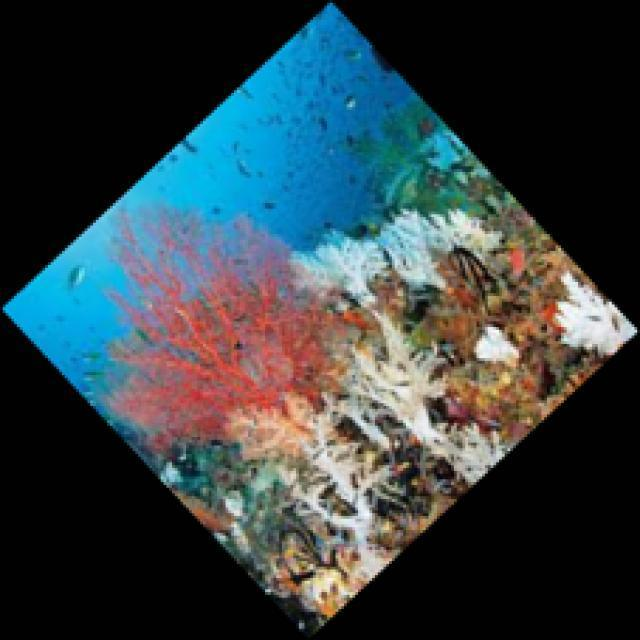Bleached: (290, 311, 506, 583), (296, 210, 505, 309), (553, 273, 640, 359), (475, 325, 523, 367)
Healthy: (111, 207, 337, 445)
